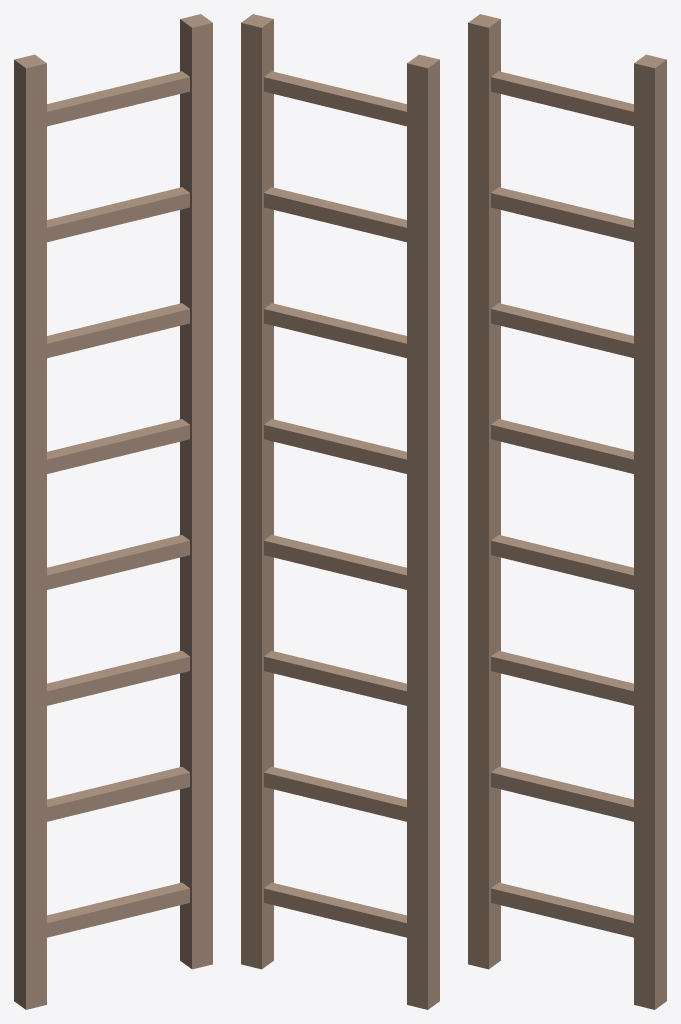
The model's file is quay_ladder.glb.
3 views of the same model, side by side, from view 1: azimuth 30°, elevation 25°; view 2: azimuth 150°, elevation 25°; view 3: azimuth 330°, elevation 25° (orthographic).
Parts seen in each view (by area): view 1: props_quay_ladder; view 2: props_quay_ladder; view 3: props_quay_ladder.
Boxes of the visible parts, x1,y1,x2,y2 form: props_quay_ladder: [14, 14, 212, 1009]; props_quay_ladder: [241, 14, 439, 1009]; props_quay_ladder: [468, 14, 666, 1009].
Size of the model in its own units: 0.5399 by 2.6 by 0.06.
